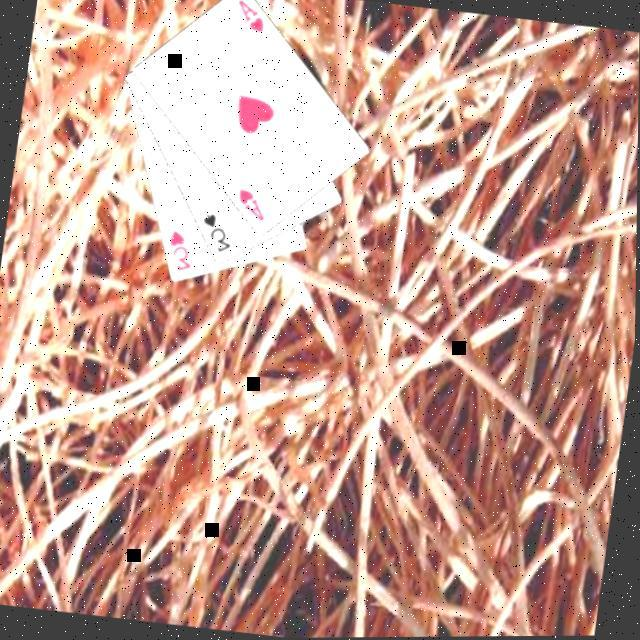3H: (161, 228, 198, 277)
3S: (194, 211, 237, 259)
AH: (230, 186, 269, 226), (229, 0, 268, 38)
